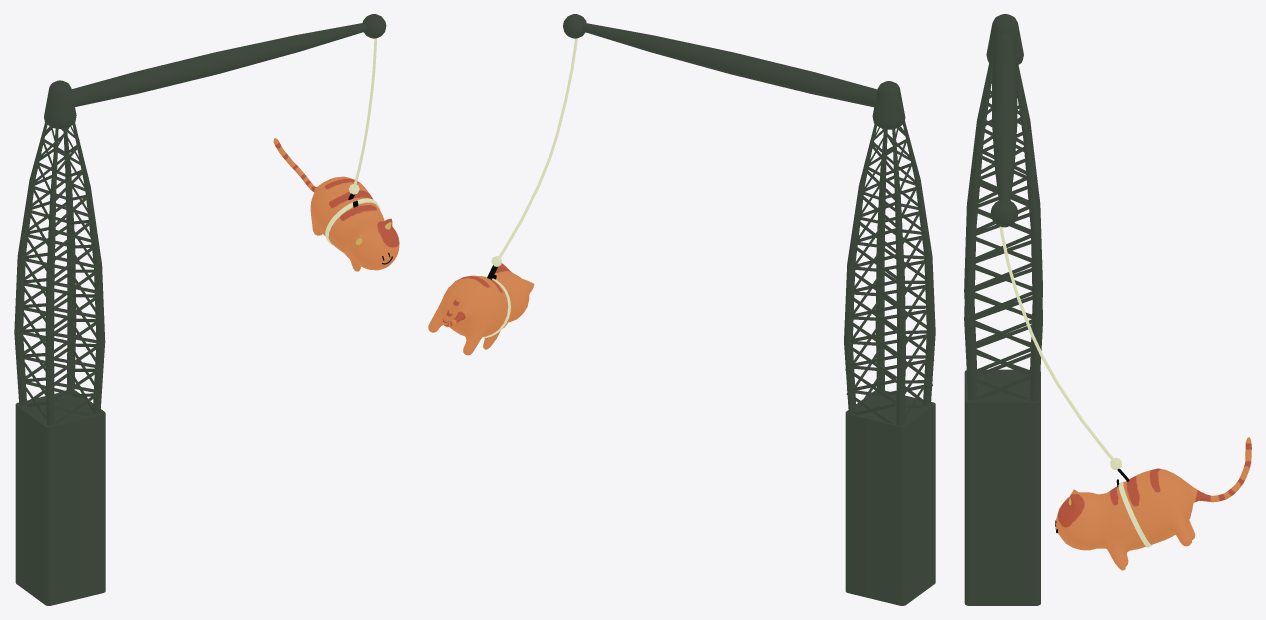
The model's file is CatWithCraneScaled_v2.fbx.
3 views of the same model, side by side, from view 1: azimuth 30°, elevation 25°; view 2: azimuth 150°, elevation 25°; view 3: azimuth 270°, elevation 25° (orthographic). The views are drawn at different scales.
Visible parts, largest first — view 1: Crane_1, Cylinder, Volume_Mesher_remesh, Cone_1, Sweep_4; view 2: Crane_1, Cylinder, Volume_Mesher_remesh, Cone_1, Sweep_4; view 3: Crane_1, Volume_Mesher_remesh, Cylinder, Sweep_4, Cone_1, Sphere, Sweep_3.
Part boxes in pixels (bbox=[...]): Crane_1: bbox=[14, 122, 105, 605]; Cylinder: bbox=[71, 22, 366, 106]; Volume_Mesher_remesh: bbox=[273, 138, 399, 271]; Cone_1: bbox=[44, 80, 76, 128]; Sweep_4: bbox=[353, 38, 376, 188]; Crane_1: bbox=[844, 120, 935, 605]; Cylinder: bbox=[582, 23, 877, 107]; Volume_Mesher_remesh: bbox=[428, 263, 534, 355]; Cone_1: bbox=[872, 81, 905, 129]; Sweep_4: bbox=[498, 38, 577, 257]; Crane_1: bbox=[964, 63, 1042, 605]; Volume_Mesher_remesh: bbox=[1055, 437, 1251, 570]; Cylinder: bbox=[992, 34, 1017, 200]; Sweep_4: bbox=[999, 226, 1113, 460]; Cone_1: bbox=[986, 14, 1023, 65]; Sphere: bbox=[990, 199, 1018, 227]; Sweep_3: bbox=[1118, 481, 1152, 547].
Bounding box in the file's own units: 18430 × 21643 × 9830.
